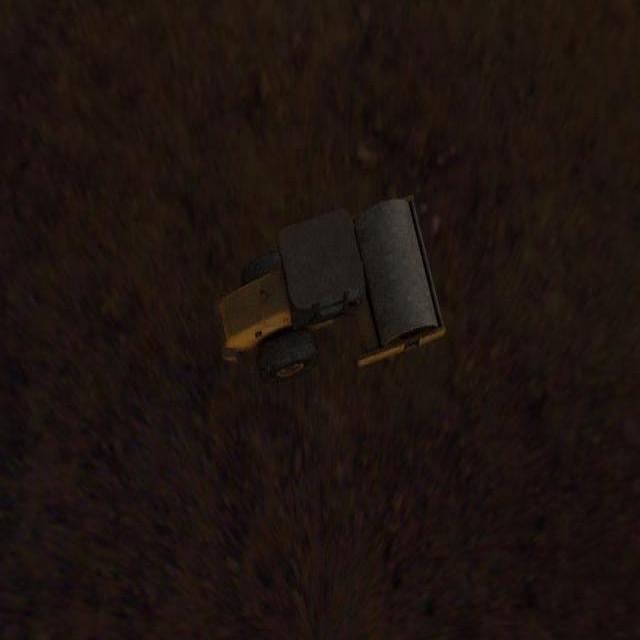Roller: (212, 195, 446, 384)
